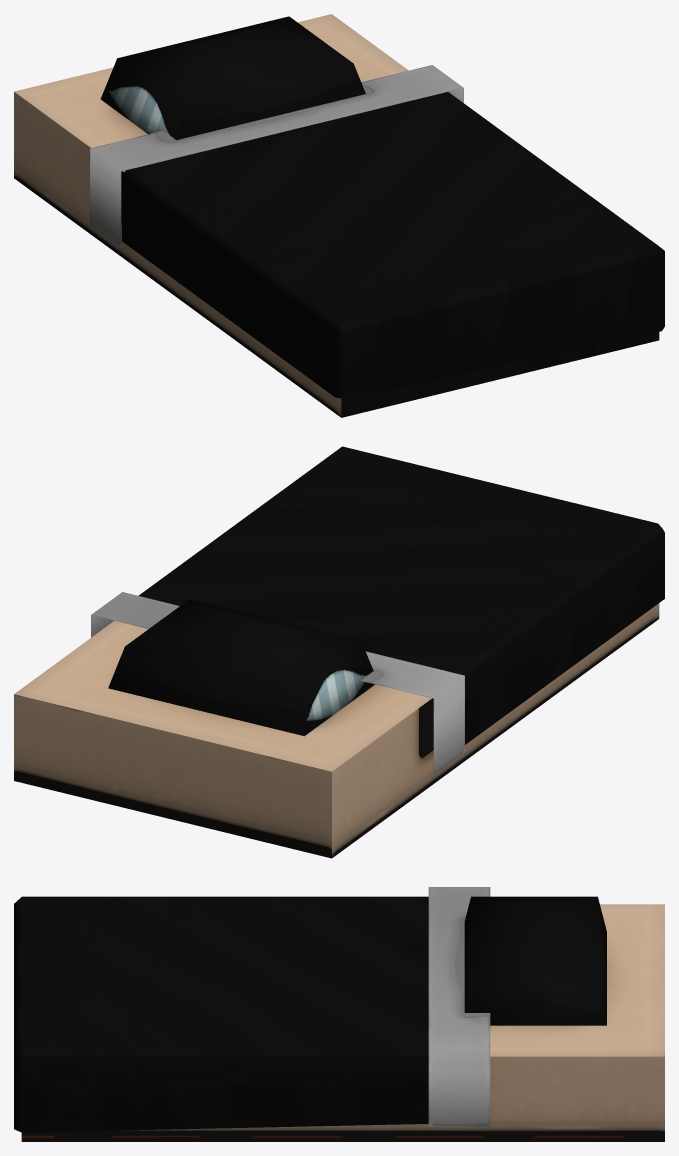
Rendered from obj_interactive_comfybed_lod1.fbx.
3 views of the same model, one above another, from view 1: azimuth 30°, elevation 25°; view 2: azimuth 150°, elevation 25°; view 3: azimuth 270°, elevation 25° (orthographic).
Parts seen in each view (by area): view 1: obj_interactive_comfybed_lod1; view 2: obj_interactive_comfybed_lod1; view 3: obj_interactive_comfybed_lod1.
Boxes of the visible parts, left/top/right/bottom form: obj_interactive_comfybed_lod1: left=14, top=14, right=664, bottom=417; obj_interactive_comfybed_lod1: left=14, top=446, right=664, bottom=858; obj_interactive_comfybed_lod1: left=14, top=887, right=664, bottom=1141.
Size of the model in its own units: 4.21 by 1.78 by 7.05.
1 material, 1 textured.
